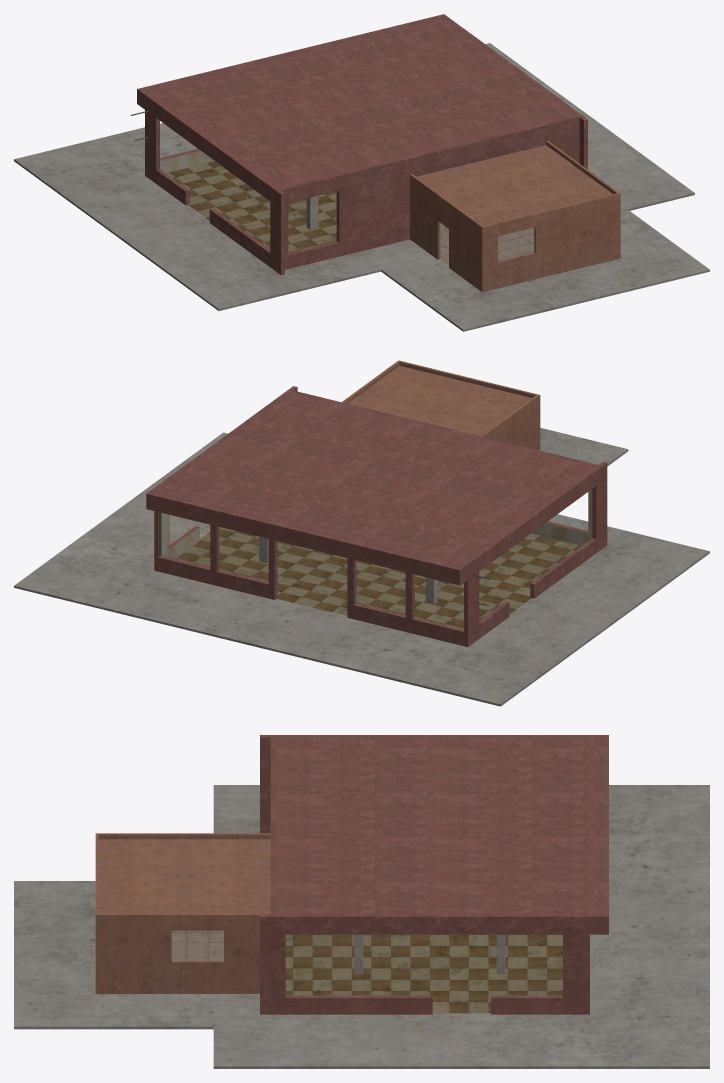
Rendered from Building_Jb01_2048_lod2.glb.
3 views of the same model, one above another, from view 1: azimuth 30°, elevation 25°; view 2: azimuth 150°, elevation 25°; view 3: azimuth 270°, elevation 25° (orthographic). The views are drawn at different scales.
Parts seen in each view (by area): view 1: xiutz_jb_01_lod2; view 2: xiutz_jb_01_lod2; view 3: xiutz_jb_01_lod2.
Boxes of the visible parts, bbox=[...] form: xiutz_jb_01_lod2: bbox=[14, 14, 709, 331]; xiutz_jb_01_lod2: bbox=[14, 360, 709, 706]; xiutz_jb_01_lod2: bbox=[14, 735, 709, 1068].
Bounding box in the file's own units: 38.07 × 6.34 × 39.77.
1 material, 1 textured.
